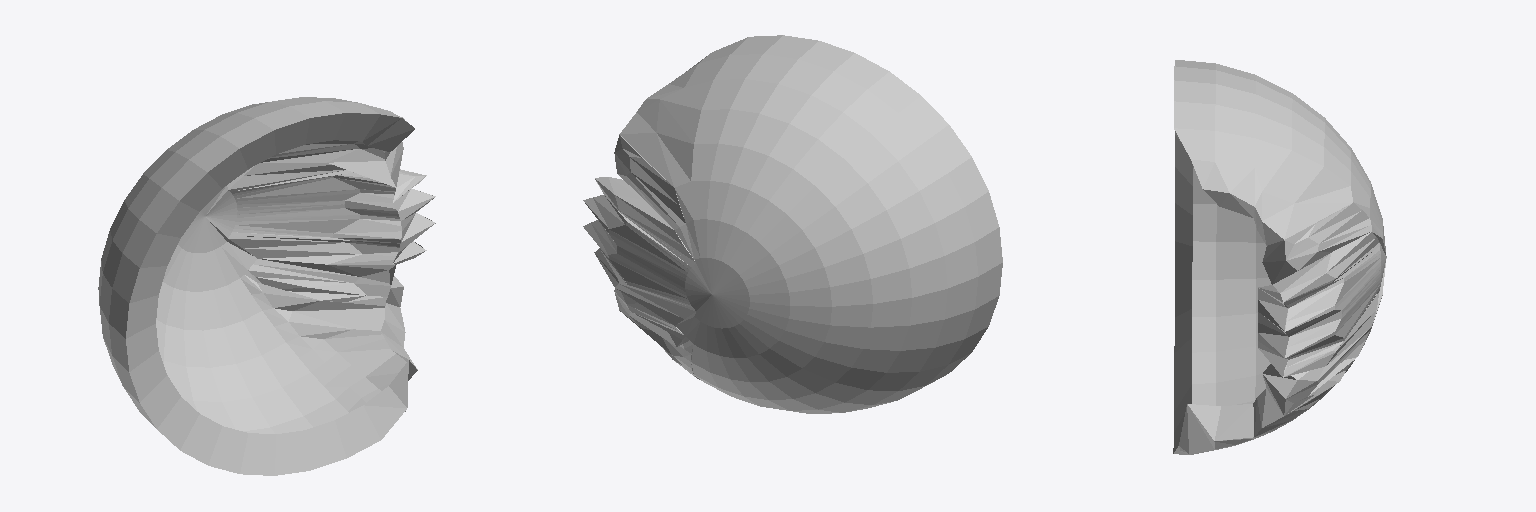
File: hair.obj
3 renders of one model, left to right at view 1: azimuth 30°, elevation 25°; view 2: azimuth 150°, elevation 25°; view 3: azimuth 270°, elevation 25°, orthographic.
Parts seen in each view (by area): view 1: Sphere; view 2: Sphere; view 3: Sphere.
Boxes of the visible parts, <box> form: Sphere: <box>98,97,435,475</box>; Sphere: <box>583,35,1002,413</box>; Sphere: <box>1173,60,1386,454</box>.
Size of the model in its own units: 7.83 by 7.22 by 3.96.